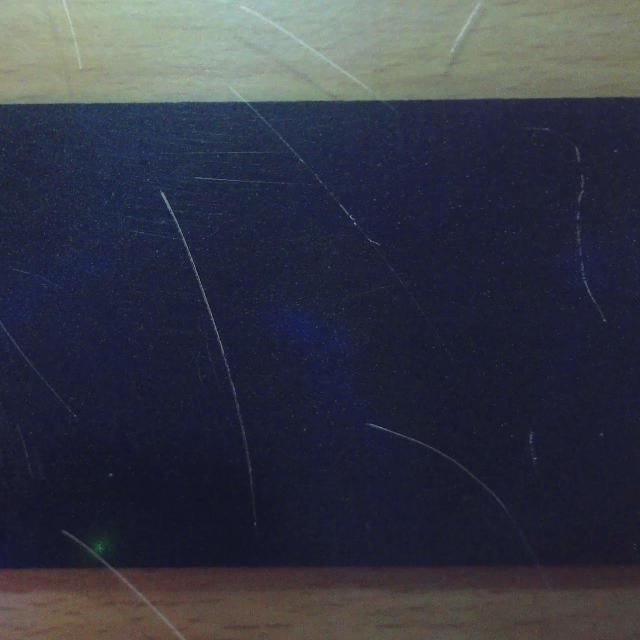defect: (160, 190, 259, 531), (365, 423, 539, 566), (241, 100, 380, 250), (525, 124, 609, 322), (0, 323, 82, 423), (62, 530, 116, 571), (523, 434, 541, 466)
